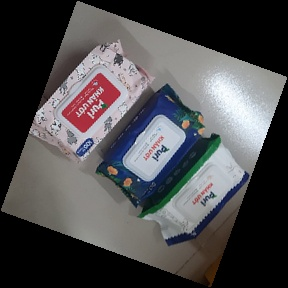Puri Trang: (134, 131, 252, 250)
Puri Xanh: (93, 82, 208, 209)
Puri hong: (26, 38, 157, 166)
